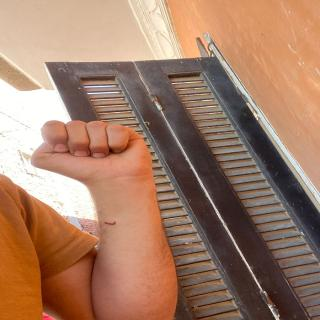SAD: (14, 117, 164, 191)
